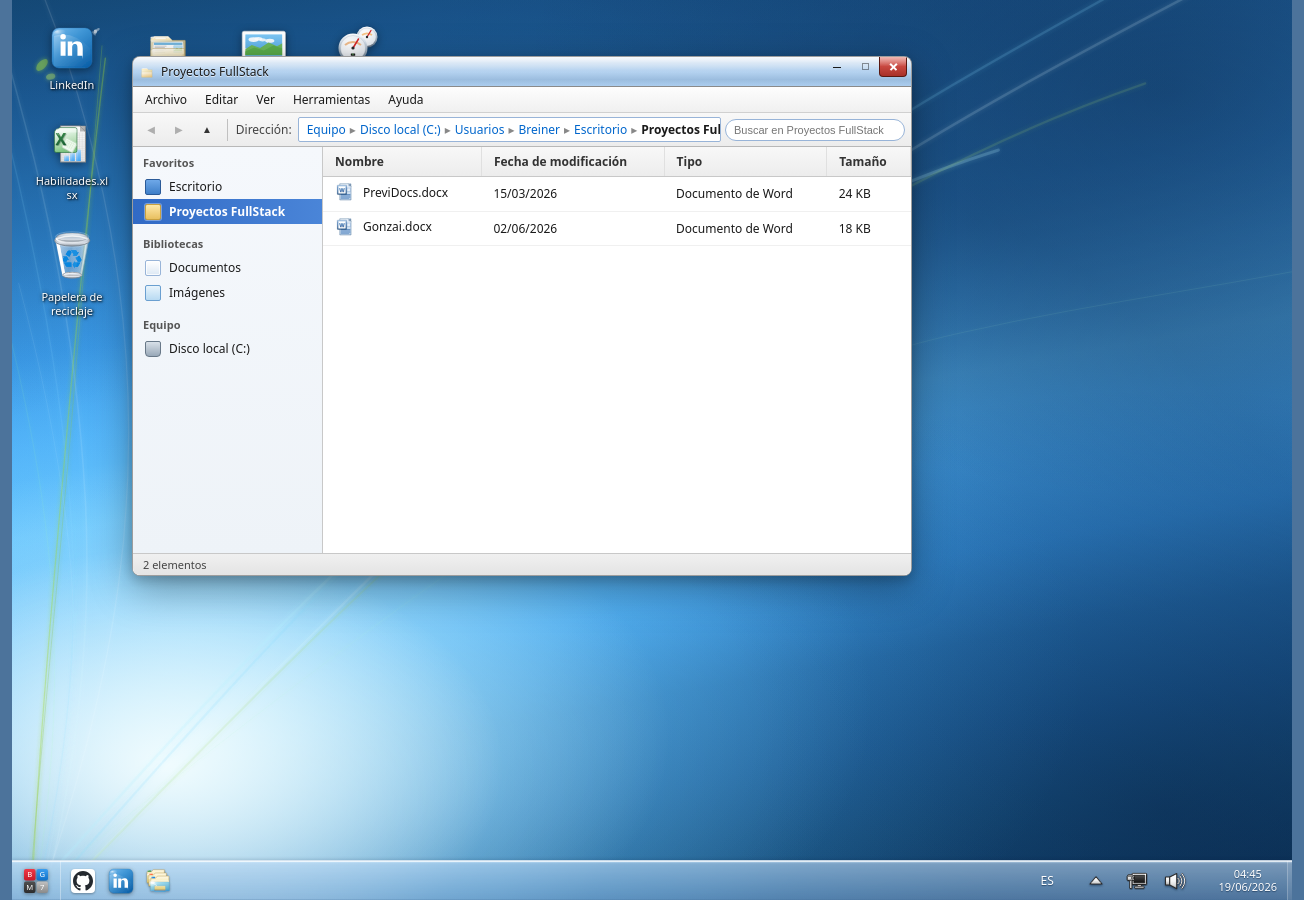
DesktopComponent › should show desktop items when Escritorio is selected in explorer
Expected: the element that starts with "Archivo" shows "Gonzai.docx", x1=363 y1=218 x2=432 y2=235
Expected: the element that starts with "Archivo" shows "PreviDocs.docx", x1=363 y1=184 x2=448 y2=200
Click the list item with class "explorer-nav-item" showing "Escritorio": (184, 186) x1=145 y1=178 x2=222 y2=195
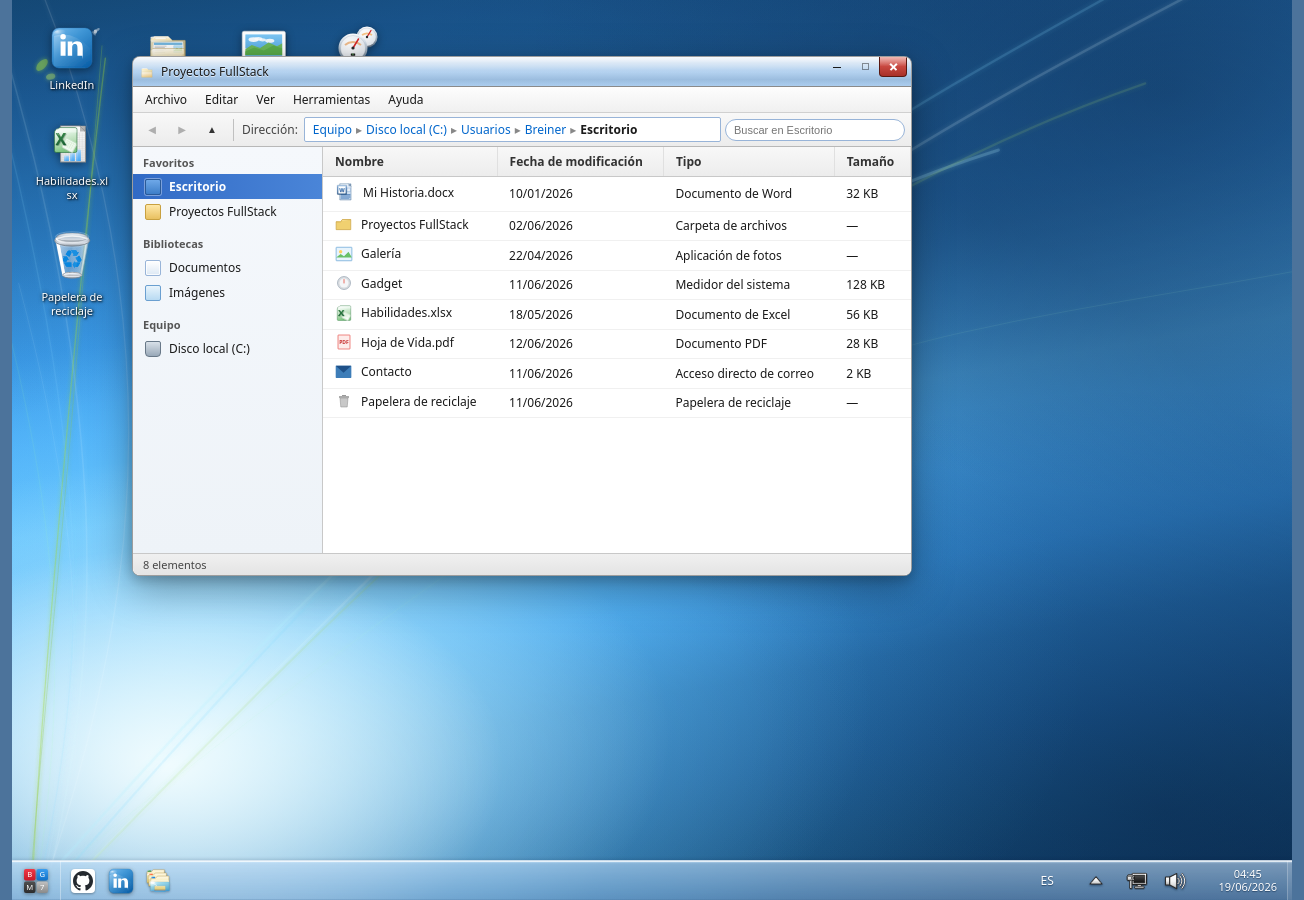
Expected: the element that starts with "Archivo" shows "Mi Historia.docx", x1=363 y1=184 x2=454 y2=200
Expected: the element that starts with "Archivo" shows "Contacto", x1=361 y1=363 x2=412 y2=380
Expected: the element that starts with "Archivo" shows "Galería", x1=361 y1=245 x2=401 y2=262
